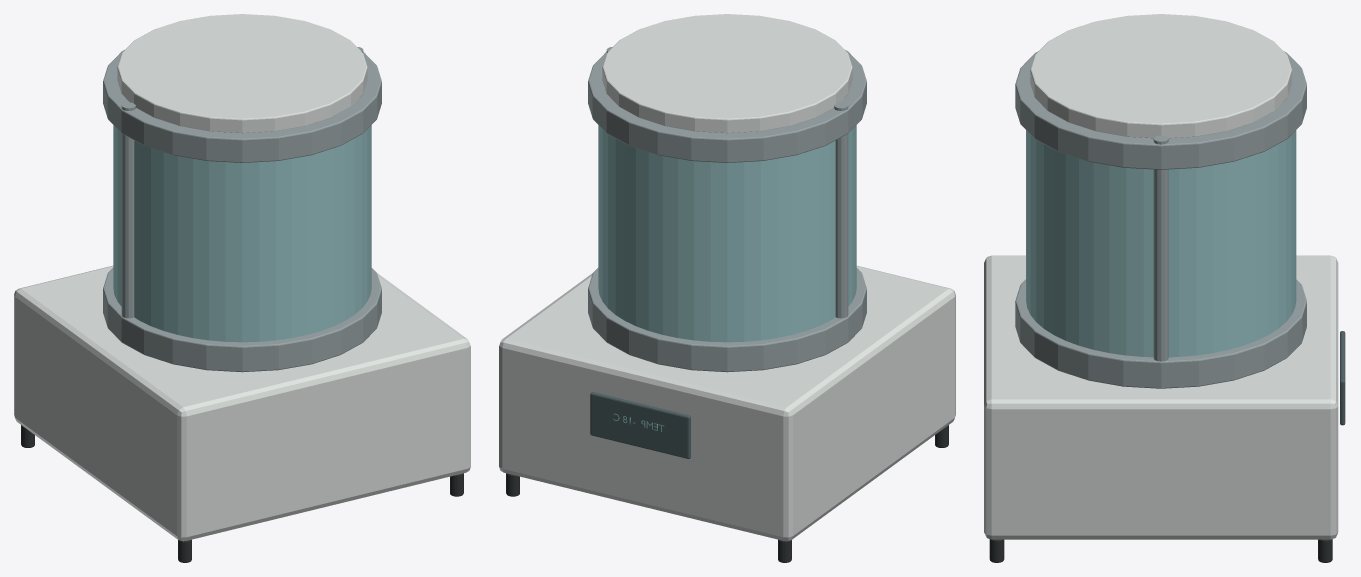
Rendered from SpecimenChamber.fbx.
3 views of the same model, side by side, from view 1: azimuth 30°, elevation 25°; view 2: azimuth 150°, elevation 25°; view 3: azimuth 270°, elevation 25° (orthographic). The views are drawn at different scales.
Visible parts, largest first — view 1: SpecimenChamber; view 2: SpecimenChamber; view 3: SpecimenChamber.
Part boxes in pixels (box(x1,y1,x2,y2)): SpecimenChamber: box(14, 14, 470, 562); SpecimenChamber: box(499, 14, 955, 562); SpecimenChamber: box(984, 14, 1345, 562).
Size of the model in its own units: 165 by 217 by 169.
